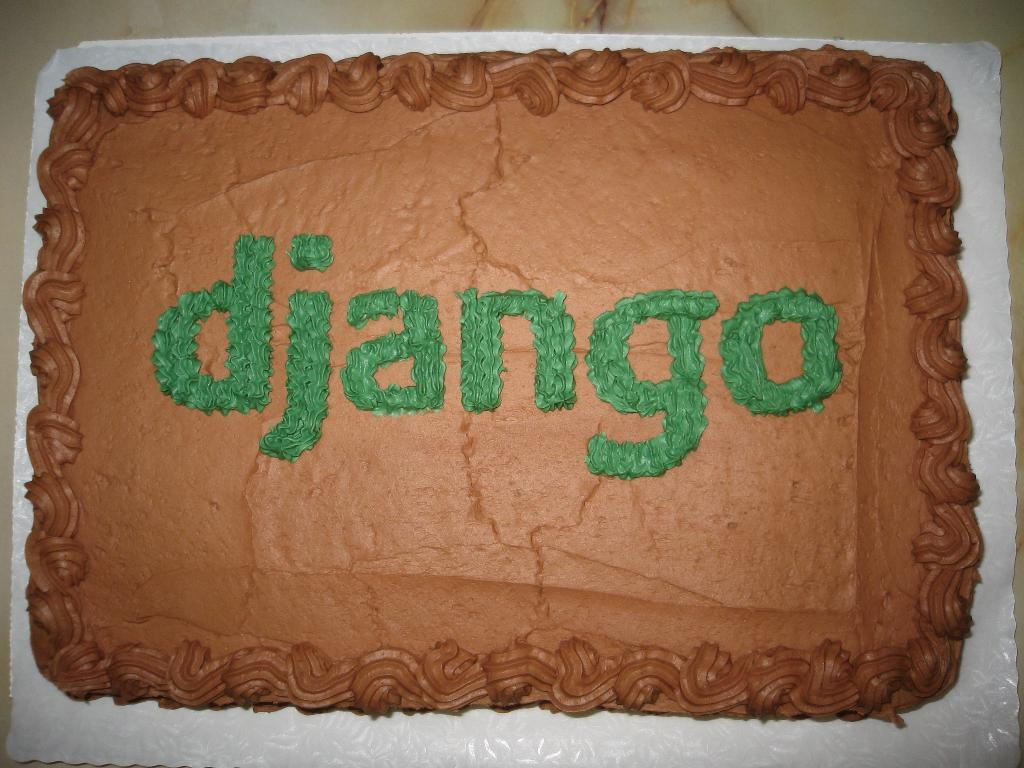cake: (25, 51, 986, 728)
